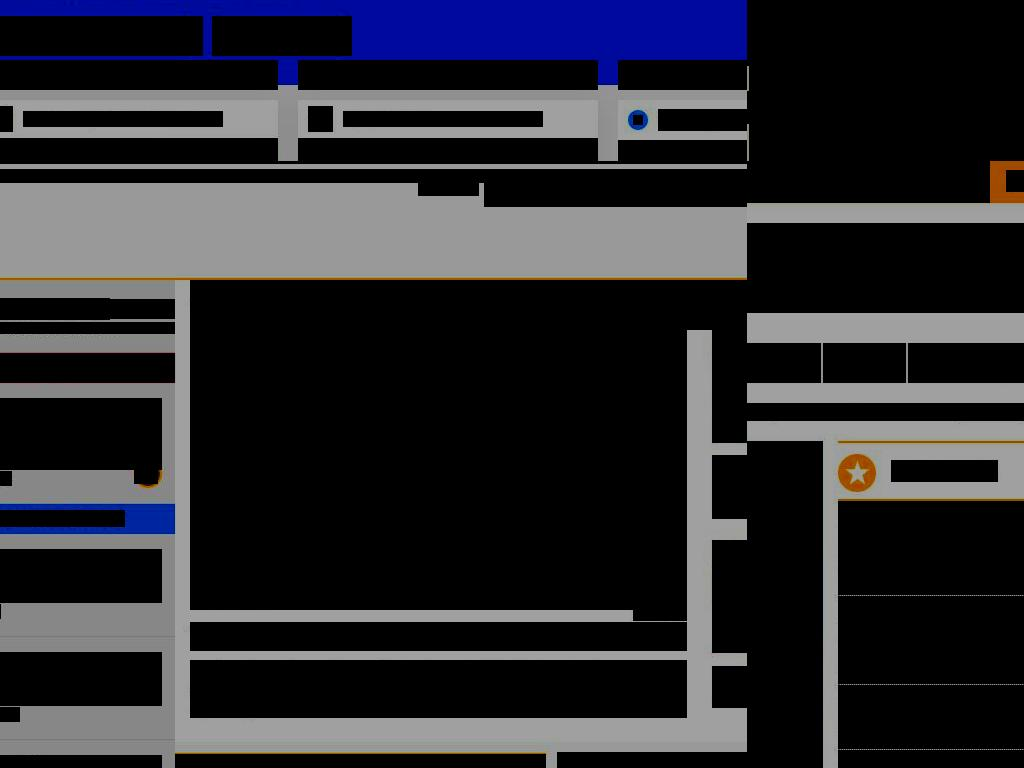button: (190, 330, 687, 610), (190, 660, 687, 718), (838, 501, 1024, 595), (838, 596, 1024, 684), (190, 622, 687, 651), (838, 685, 1024, 749), (298, 60, 598, 90), (0, 60, 278, 90), (0, 16, 203, 56), (212, 16, 352, 56), (908, 343, 1024, 383), (618, 60, 747, 90), (811, 161, 903, 203), (903, 161, 990, 203), (0, 299, 175, 319), (823, 343, 906, 383), (747, 343, 821, 383), (747, 161, 811, 203), (0, 322, 175, 334), (308, 106, 333, 132), (0, 106, 13, 132)
field: (484, 169, 747, 207)
heading: (190, 280, 747, 330), (838, 509, 1024, 587), (838, 604, 1024, 676), (190, 622, 519, 650), (838, 693, 1024, 741), (891, 460, 998, 482), (712, 455, 747, 518)
iframe: (747, 223, 1024, 313)
image: (190, 330, 687, 610), (749, 0, 1024, 161), (195, 335, 231, 371), (717, 545, 747, 582), (717, 335, 747, 371), (308, 106, 333, 132), (134, 460, 158, 484), (0, 106, 13, 132), (633, 115, 643, 125)
label: (418, 180, 479, 196)
link: (956, 403, 1024, 421)
text: (0, 169, 747, 183), (0, 16, 193, 56), (0, 416, 162, 452), (308, 64, 570, 86), (0, 64, 250, 86), (0, 353, 175, 383), (212, 16, 342, 56), (175, 754, 546, 768), (747, 403, 956, 421), (23, 111, 223, 127), (343, 111, 543, 127), (0, 398, 162, 416), (0, 452, 162, 470), (0, 549, 162, 567), (0, 567, 162, 585), (0, 585, 162, 603), (0, 652, 162, 670), (0, 670, 162, 688), (0, 688, 162, 706), (628, 64, 747, 86), (0, 298, 110, 320), (0, 510, 125, 527), (0, 755, 162, 768), (658, 109, 747, 131), (198, 578, 261, 605), (827, 170, 887, 192), (919, 170, 974, 192), (747, 170, 795, 192), (633, 610, 687, 621), (1006, 170, 1024, 192), (0, 707, 20, 722)
